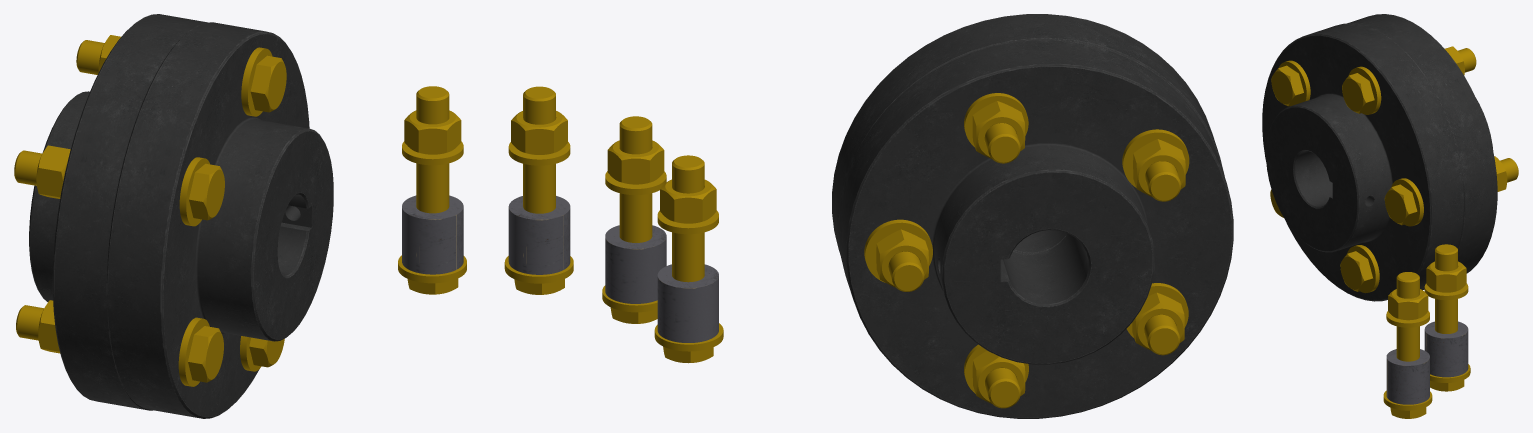
File: pin bush coupling 3.glb
3 renders of one model, left to right at view 1: azimuth 30°, elevation 25°; view 2: azimuth 150°, elevation 25°; view 3: azimuth 270°, elevation 25°, orthographic. The views are drawn at different scales.
Parts seen in each view (by area): view 1: RB-105-3_Bush Half.001, RB-105-3_Bush Half.002, TR Fastenings Ltd-M16X100MM_M16X100mm.007, TR Fastenings Ltd-M16X100MM_M16X100mm.006, TR Fastenings Ltd-M16X100MM_M16X100mm001.007, TR Fastenings Ltd-M16X100MM_M16X100mm001.008, TR Fastenings Ltd-M16 (1)_M16.006, TR Fastenings Ltd-M16 (1)_M16.007, TR Fastenings Ltd-M16X100MM_M16X100mm.002, TR Fastenings Ltd-M16X100MM_M16X100mm.003, TR Fastenings Ltd-M16X100MM_M16X100mm.004, TR Fastenings Ltd-M16 (1)_M16.003 (+12 smaller); view 2: RB-105-3_Bush Half.002, RB-105-3_Bush Half.001, TR Fastenings Ltd-M16X100MM_M16X100mm.006, TR Fastenings Ltd-M16X100MM_M16X100mm.007, TR Fastenings Ltd-M16X100MM_M16X100mm001.008, TR Fastenings Ltd-M16X100MM_M16X100mm001.007, TR Fastenings Ltd-M16 (1)_M16.007, TR Fastenings Ltd-M16 (1)_M16.006, TR Fastenings Ltd-M16 (1)_M16.003, TR Fastenings Ltd-M16 (1)_M16.002, TR Fastenings Ltd-M16 (1)_M16.001, TR Fastenings Ltd-M16 (1)_M16.004 (+13 smaller); view 3: RB-105-3_Bush Half.001, RB-105-3_Bush Half.002, TR Fastenings Ltd-M16X100MM_M16X100mm.007, TR Fastenings Ltd-M16X100MM_M16X100mm.006, TR Fastenings Ltd-M16X100MM_M16X100mm001.008, TR Fastenings Ltd-M16X100MM_M16X100mm001.007, TR Fastenings Ltd-M16X100MM_M16X100mm.003, TR Fastenings Ltd-M16X100MM_M16X100mm.005, TR Fastenings Ltd-M16X100MM_M16X100mm.001, TR Fastenings Ltd-M16X100MM_M16X100mm.002, TR Fastenings Ltd-M16 (1)_M16.007, TR Fastenings Ltd-M16 (1)_M16.006 (+11 smaller).
Part boxes in pixels (x1,y1,x2,y2): RB-105-3_Bush Half.001: (106, 22, 333, 418); RB-105-3_Bush Half.002: (29, 14, 207, 410); TR Fastenings Ltd-M16X100MM_M16X100mm.007: (508, 196, 570, 294); TR Fastenings Ltd-M16X100MM_M16X100mm.006: (402, 195, 463, 294); TR Fastenings Ltd-M16X100MM_M16X100mm001.007: (416, 86, 449, 213); TR Fastenings Ltd-M16X100MM_M16X100mm001.008: (523, 86, 555, 213); TR Fastenings Ltd-M16 (1)_M16.006: (404, 110, 461, 154); TR Fastenings Ltd-M16 (1)_M16.007: (511, 111, 567, 154); TR Fastenings Ltd-M16X100MM_M16X100mm.002: (250, 55, 286, 112); TR Fastenings Ltd-M16X100MM_M16X100mm.003: (189, 163, 224, 220); TR Fastenings Ltd-M16X100MM_M16X100mm.004: (188, 326, 223, 382); TR Fastenings Ltd-M16 (1)_M16.003: (36, 145, 70, 198); RB-105-3_Bush Half.002: (838, 40, 1233, 418); RB-105-3_Bush Half.001: (832, 14, 1224, 254); TR Fastenings Ltd-M16X100MM_M16X100mm.006: (657, 264, 718, 363); TR Fastenings Ltd-M16X100MM_M16X100mm.007: (605, 225, 666, 323); TR Fastenings Ltd-M16X100MM_M16X100mm001.008: (619, 116, 652, 242); TR Fastenings Ltd-M16X100MM_M16X100mm001.007: (672, 155, 704, 282); TR Fastenings Ltd-M16 (1)_M16.007: (607, 140, 664, 184); TR Fastenings Ltd-M16 (1)_M16.006: (660, 179, 716, 223); TR Fastenings Ltd-M16 (1)_M16.003: (1133, 139, 1185, 196); TR Fastenings Ltd-M16 (1)_M16.002: (972, 101, 1025, 158); TR Fastenings Ltd-M16 (1)_M16.001: (876, 229, 928, 287); TR Fastenings Ltd-M16 (1)_M16.004: (1132, 292, 1184, 350); RB-105-3_Bush Half.001: (1262, 23, 1463, 301); RB-105-3_Bush Half.002: (1347, 14, 1497, 290); TR Fastenings Ltd-M16X100MM_M16X100mm.007: (1386, 349, 1429, 418); TR Fastenings Ltd-M16X100MM_M16X100mm.006: (1424, 321, 1468, 391); TR Fastenings Ltd-M16X100MM_M16X100mm001.008: (1396, 272, 1419, 361); TR Fastenings Ltd-M16X100MM_M16X100mm001.007: (1435, 244, 1457, 333); TR Fastenings Ltd-M16X100MM_M16X100mm.003: (1271, 65, 1303, 106); TR Fastenings Ltd-M16X100MM_M16X100mm.005: (1340, 251, 1372, 291); TR Fastenings Ltd-M16X100MM_M16X100mm.001: (1384, 184, 1417, 225); TR Fastenings Ltd-M16X100MM_M16X100mm.002: (1342, 73, 1374, 113); TR Fastenings Ltd-M16 (1)_M16.007: (1388, 289, 1428, 320); TR Fastenings Ltd-M16 (1)_M16.006: (1426, 261, 1466, 292).
Bounding box in the file's own units: 0.3213 × 0.1918 × 0.1767.
3 materials, 2 textured.
